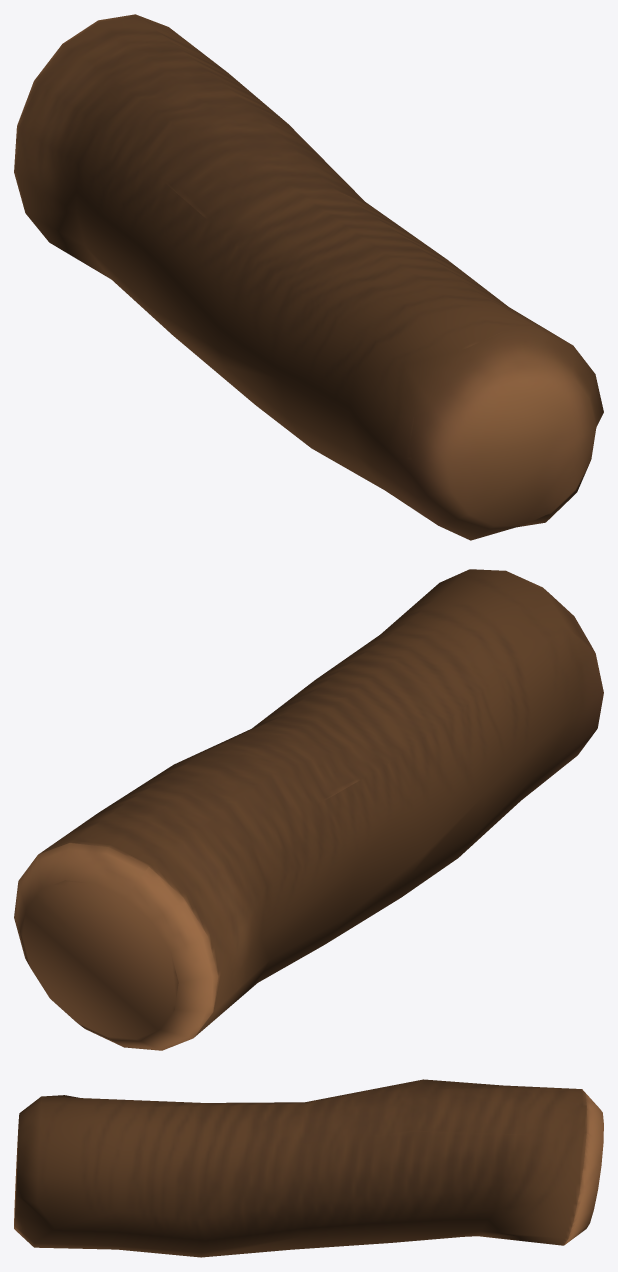
File: CampFireLogStyle1.fbx
The picture shows the model from 3 angles, top to bottom: view 1: azimuth 30°, elevation 25°; view 2: azimuth 150°, elevation 25°; view 3: azimuth 270°, elevation 25°; orthographic projection. The views are drawn at different scales.
Parts seen in each view (by area): view 1: CampFireLogStyle1; view 2: CampFireLogStyle1; view 3: CampFireLogStyle1.
Boxes of the visible parts, bbox=[...] form: CampFireLogStyle1: bbox=[14, 14, 603, 540]; CampFireLogStyle1: bbox=[14, 569, 603, 1050]; CampFireLogStyle1: bbox=[14, 1079, 603, 1257].
Bounding box in the file's own units: 38.93 × 41.7 × 142.
